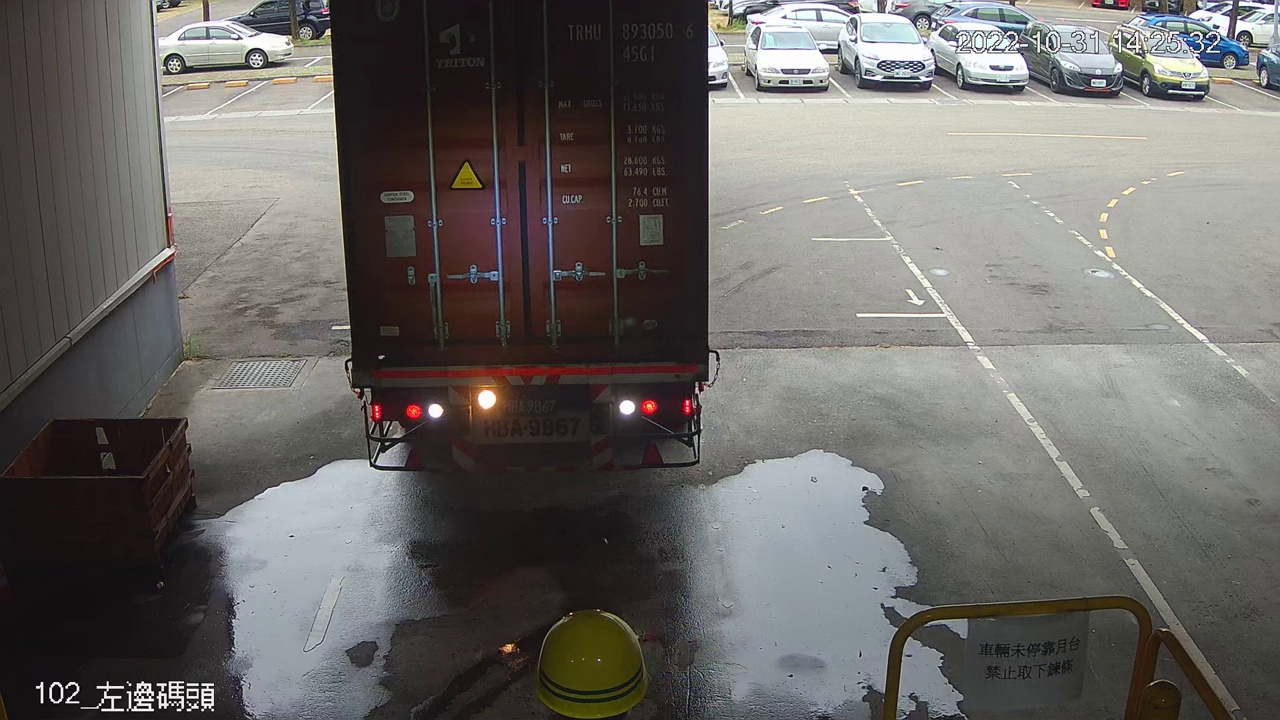container: (560, 15, 701, 69)
